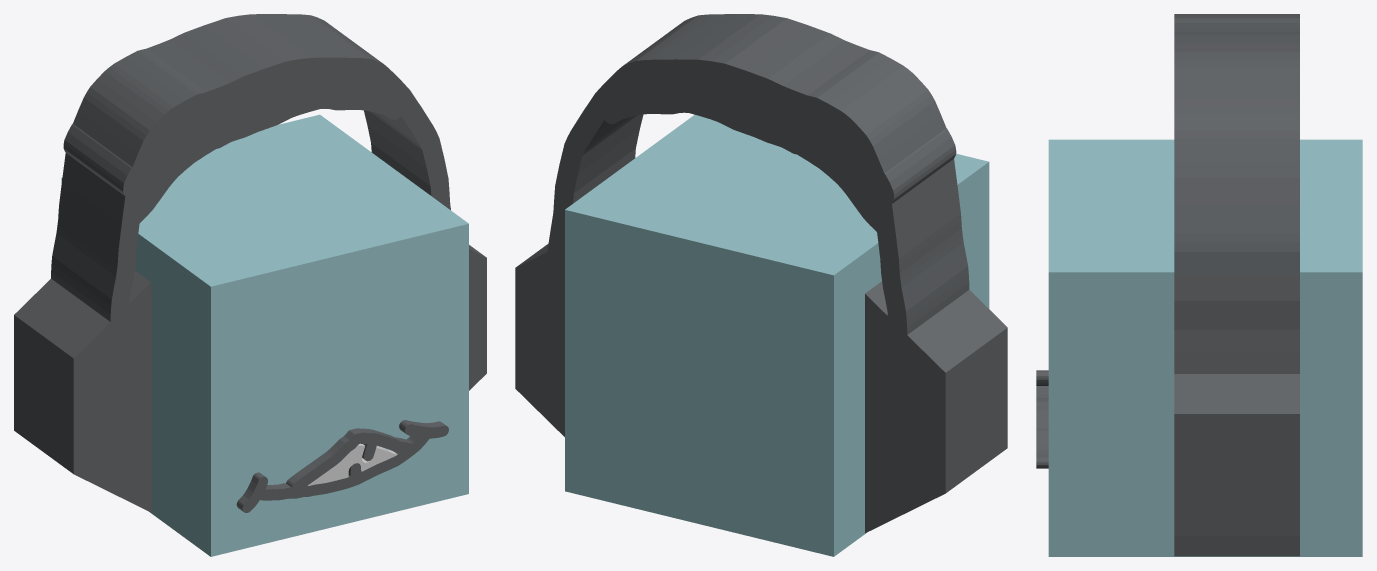
File: smugbox.glb
3 views of the same model, side by side, from view 1: azimuth 30°, elevation 25°; view 2: azimuth 150°, elevation 25°; view 3: azimuth 270°, elevation 25° (orthographic). The views are drawn at different scales.
Parts seen in each view (by area): view 1: Mesh_Mesh_head_geo.001_lambert2SG.001; view 2: Mesh_Mesh_head_geo.001_lambert2SG.001; view 3: Mesh_Mesh_head_geo.001_lambert2SG.001.
Boxes of the visible parts, x1,y1,x2,y2 form: Mesh_Mesh_head_geo.001_lambert2SG.001: (14,14,486,556); Mesh_Mesh_head_geo.001_lambert2SG.001: (515,14,1007,556); Mesh_Mesh_head_geo.001_lambert2SG.001: (1036,14,1362,556).
Bounding box in the file's own units: 32 × 31 × 20.78.
